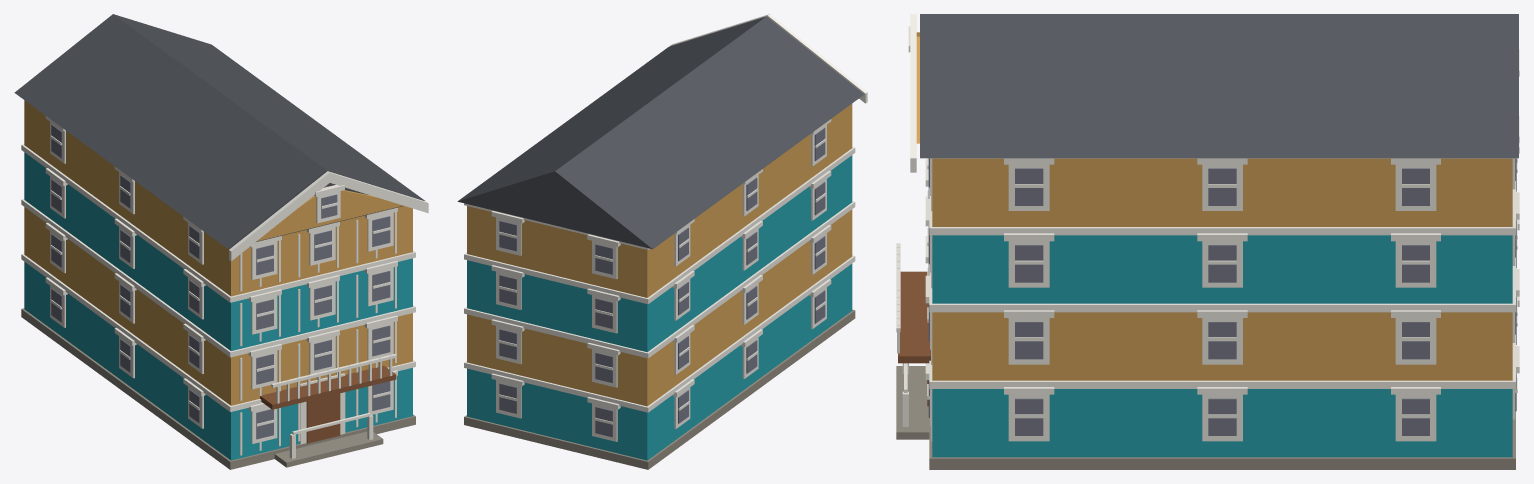
The model's file is house-1x2-4f-valparaiso-a.glb.
3 views of the same model, side by side, from view 1: azimuth 30°, elevation 25°; view 2: azimuth 150°, elevation 25°; view 3: azimuth 270°, elevation 25° (orthographic). The views are drawn at different scales.
Parts seen in each view (by area): view 1: house-1x2-4f-valparaiso-a; view 2: house-1x2-4f-valparaiso-a; view 3: house-1x2-4f-valparaiso-a.
Boxes of the visible parts, <box> form: house-1x2-4f-valparaiso-a: <box>14,14,428,469</box>; house-1x2-4f-valparaiso-a: <box>457,14,867,469</box>; house-1x2-4f-valparaiso-a: <box>896,14,1519,469</box>.
Size of the model in its own units: 1.02 by 1.38 by 1.99.
Materials: 1 (1 with a texture image).
